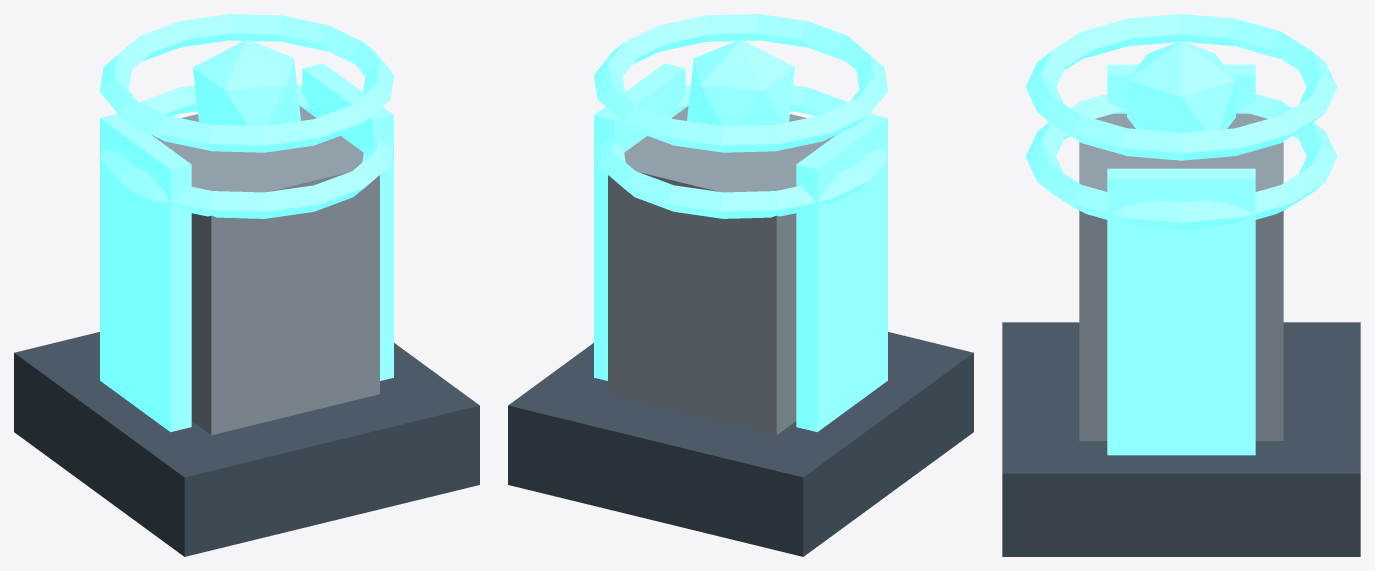
The model's file is shield-station.glb.
The picture shows the model from 3 angles, left to right: view 1: azimuth 30°, elevation 25°; view 2: azimuth 150°, elevation 25°; view 3: azimuth 270°, elevation 25°; orthographic projection. The views are drawn at different scales.
Visible parts, largest first — view 1: Foundation, Housing, EnergyStrut, Torus.001, Torus, Icosphere, EnergyStrut.001; view 2: Foundation, Housing, EnergyStrut, Torus.001, Torus, Icosphere, EnergyStrut.001; view 3: Foundation, EnergyStrut.001, Housing, Torus.001, Torus, Icosphere, EnergyStrut.
Part boxes in pixels (box(x1,y1,x2,y2)): Foundation: box(14, 332, 479, 556); Housing: box(151, 106, 379, 435); EnergyStrut: box(100, 113, 191, 432); Torus.001: box(99, 14, 394, 152); Torus: box(99, 85, 394, 218); Icosphere: box(193, 39, 300, 126); EnergyStrut.001: box(302, 63, 393, 380); Foundation: box(508, 332, 973, 556); Housing: box(608, 106, 836, 435); EnergyStrut: box(796, 113, 887, 432); Torus.001: box(593, 14, 888, 152); Torus: box(593, 85, 888, 218); Icosphere: box(687, 39, 794, 126); EnergyStrut.001: box(594, 63, 685, 380); Foundation: box(1002, 322, 1360, 556); EnergyStrut.001: box(1107, 168, 1255, 455); Housing: box(1079, 113, 1283, 440); Torus.001: box(1025, 14, 1337, 160); Torus: box(1025, 94, 1337, 230); Icosphere: box(1127, 41, 1235, 132); EnergyStrut: box(1107, 64, 1255, 113).
Size of the model in its own units: 1.4 by 1.9 by 1.4.
